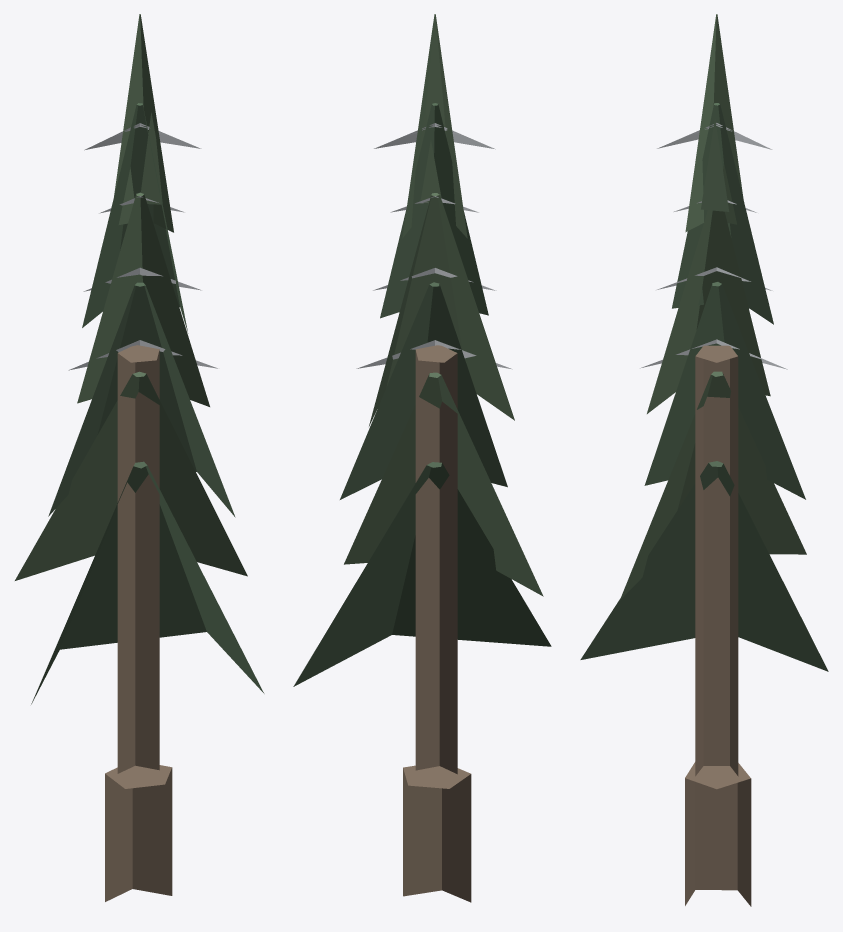
File: tree.cold.fir__autumn.glb
3 renders of one model, left to right at view 1: azimuth 30°, elevation 25°; view 2: azimuth 150°, elevation 25°; view 3: azimuth 270°, elevation 25°, orthographic.
Visible parts, largest first — view 1: tree.cold.fir__autumn; view 2: tree.cold.fir__autumn; view 3: tree.cold.fir__autumn.
Boxes of the visible parts, bbox=[...] form: tree.cold.fir__autumn: bbox=[15, 14, 264, 901]; tree.cold.fir__autumn: bbox=[293, 14, 551, 902]; tree.cold.fir__autumn: bbox=[580, 14, 828, 906].
Size of the model in its own units: 5.12 by 20.71 by 5.26.
